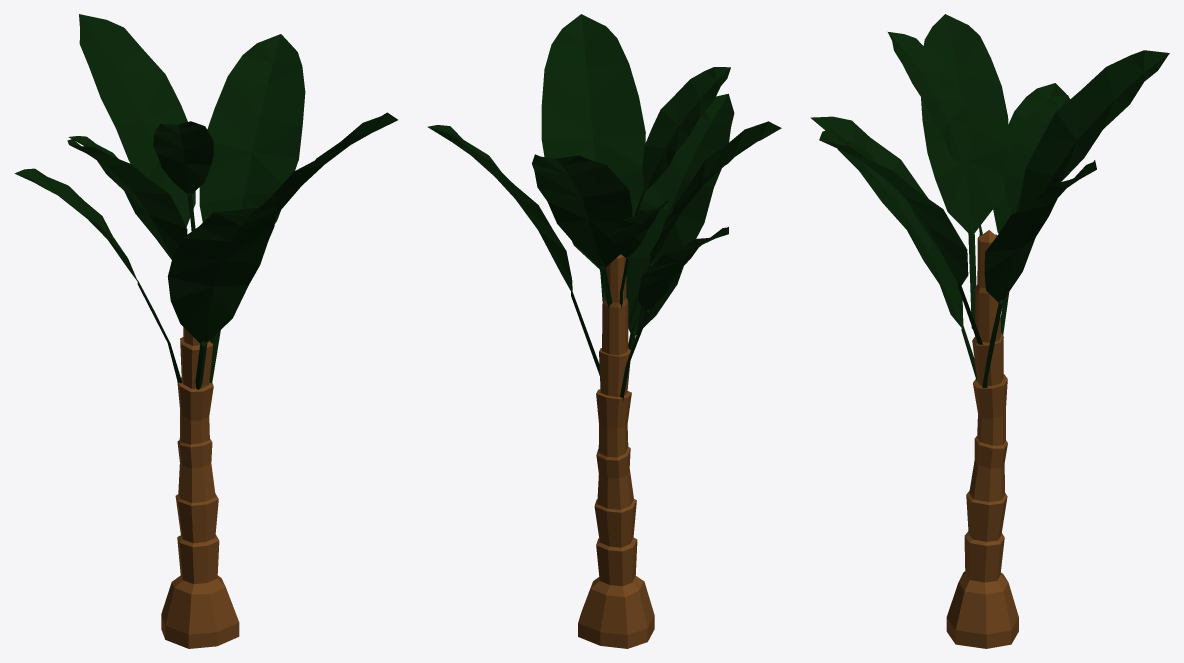
Rendered from SM_BananaTree.obj.
The picture shows the model from 3 angles, left to right: view 1: azimuth 30°, elevation 25°; view 2: azimuth 150°, elevation 25°; view 3: azimuth 270°, elevation 25°; orthographic projection. The views are drawn at different scales.
Visible parts, largest first — view 1: SM_BananaTree; view 2: SM_BananaTree; view 3: SM_BananaTree.
Boxes of the visible parts, left/top/right/bottom form: SM_BananaTree: left=14, top=14, right=397, bottom=648; SM_BananaTree: left=427, top=14, right=781, bottom=648; SM_BananaTree: left=810, top=14, right=1169, bottom=648.
Size of the model in its own units: 1.72 by 3.17 by 1.83.
